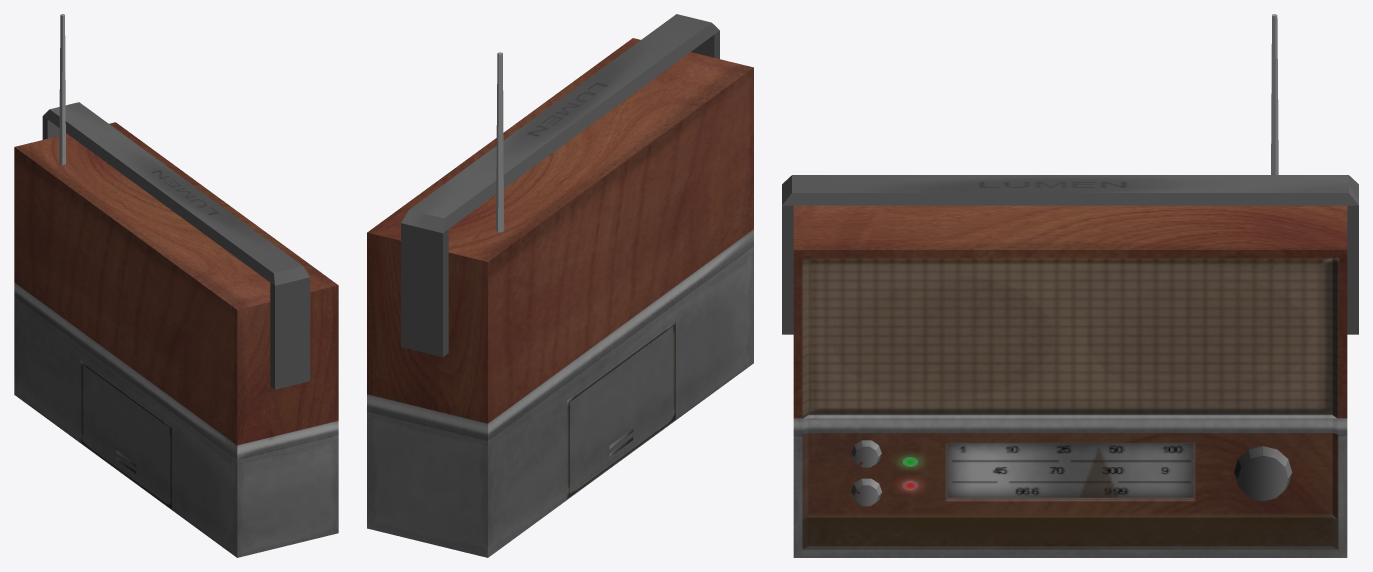
File: 80electroniRadio.fbx
3 views of the same model, side by side, from view 1: azimuth 30°, elevation 25°; view 2: azimuth 150°, elevation 25°; view 3: azimuth 270°, elevation 25° (orthographic). The views are drawn at different scales.
Parts seen in each view (by area): view 1: Cube; view 2: Cube; view 3: Cube.
Part boxes in pixels (<box>): Cube: <box>14,14,338,557</box>; Cube: <box>367,14,753,557</box>; Cube: <box>782,14,1358,557</box>.
Bounding box in the file's own units: 6.69 × 24 × 25.46.
Materials: 1 (1 with a texture image).
